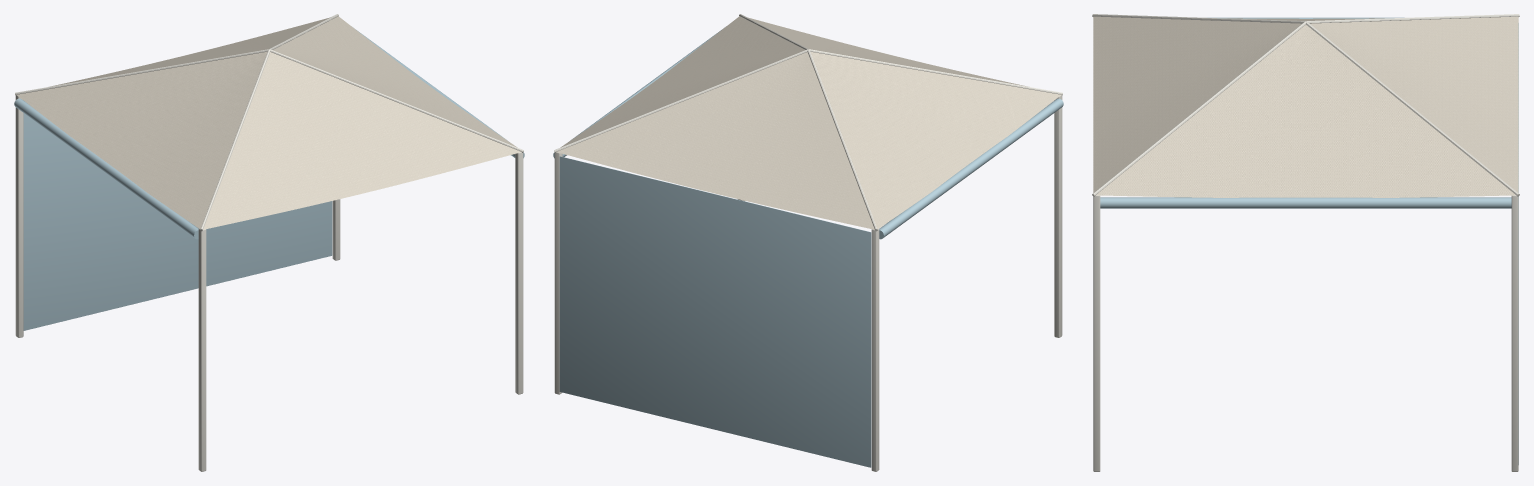
The model's file is carpa_both_exterior.glb.
3 renders of one model, left to right at view 1: azimuth 30°, elevation 25°; view 2: azimuth 150°, elevation 25°; view 3: azimuth 270°, elevation 25°, orthographic. The views are drawn at different scales.
Visible parts, largest first — view 1: carpa_both_exterior; view 2: carpa_both_exterior; view 3: carpa_both_exterior.
Boxes of the visible parts, x1,y1,x2,y2 form: carpa_both_exterior: [14, 14, 524, 471]; carpa_both_exterior: [553, 14, 1063, 471]; carpa_both_exterior: [1092, 14, 1519, 471].
Bounding box in the file's own units: 3.08 × 2.81 × 3.02.
Materials: 3 (1 with a texture image).
